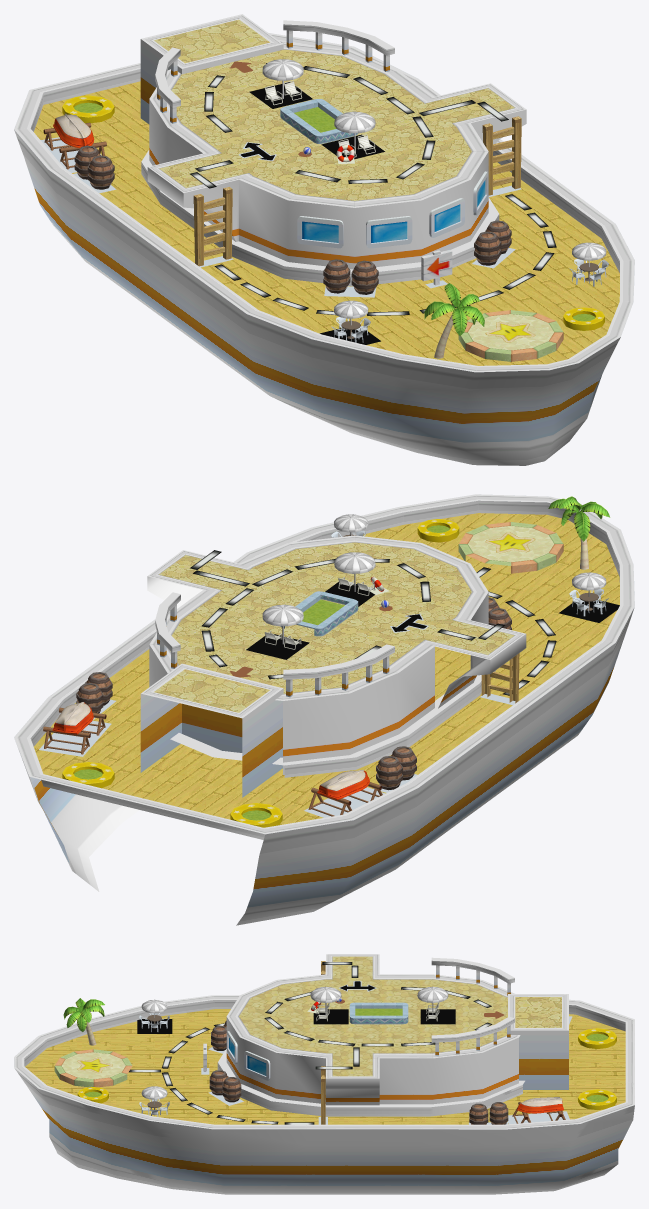
Rendered from mp7_tutorial_board.glb.
The picture shows the model from 3 angles, top to bottom: view 1: azimuth 30°, elevation 25°; view 2: azimuth 150°, elevation 25°; view 3: azimuth 270°, elevation 25°; orthographic projection. The views are drawn at different scales.
Visible parts, largest first — view 1: 91, 90, 85, 84, 38, 83, 89, 5, 88, 78, 27, 77 (+14 smaller); view 2: 91, 90, 85, 84, 89, 83, 38, 5, 88, 28, 27, 87 (+16 smaller); view 3: 91, 90, 84, 85, 89, 83, 38, 5, 88, 27, 87, 28 (+12 smaller).
Boxes of the visible parts, <box> form: 91: <box>14,33,634,465</box>; 90: <box>34,81,619,365</box>; 85: <box>159,49,514,200</box>; 84: <box>147,42,526,269</box>; 38: <box>190,63,556,315</box>; 83: <box>141,149,499,286</box>; 89: <box>140,14,283,124</box>; 5: <box>155,20,394,123</box>; 88: <box>154,19,269,63</box>; 78: <box>193,187,232,266</box>; 27: <box>458,310,563,361</box>; 77: <box>482,116,521,195</box>; 91: <box>14,494,634,925</box>; 90: <box>34,513,619,825</box>; 85: <box>159,542,514,693</box>; 84: <box>147,535,526,774</box>; 89: <box>140,663,283,797</box>; 83: <box>170,670,495,777</box>; 38: <box>190,550,556,695</box>; 5: <box>155,592,394,697</box>; 88: <box>154,669,269,712</box>; 28: <box>468,525,553,562</box>; 27: <box>458,522,563,573</box>; 87: <box>280,591,358,636</box>; 91: <box>14,995,634,1194</box>; 90: <box>25,1009,625,1124</box>; 84: <box>226,954,520,1105</box>; 85: <box>239,956,507,1076</box>; 89: <box>508,994,568,1089</box>; 83: <box>217,1049,524,1116</box>; 38: <box>129,962,492,1124</box>; 5: <box>431,957,514,1055</box>; 88: <box>515,997,561,1027</box>; 27: <box>54,1049,132,1087</box>; 87: <box>349,1002,408,1024</box>; 28: <box>61,1052,125,1079</box>.
Bounding box in the file's own units: 26.54 × 14.87 × 51.75.
102 materials, 102 textured.
